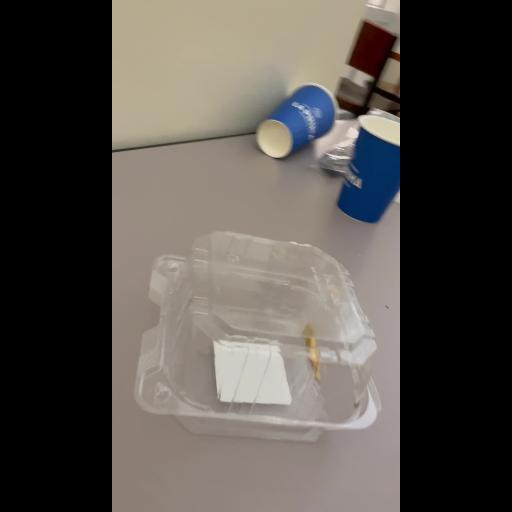lp_paper_cup: (334, 114, 400, 222), (256, 82, 338, 160)
small_plastic_container: (132, 234, 378, 448)
